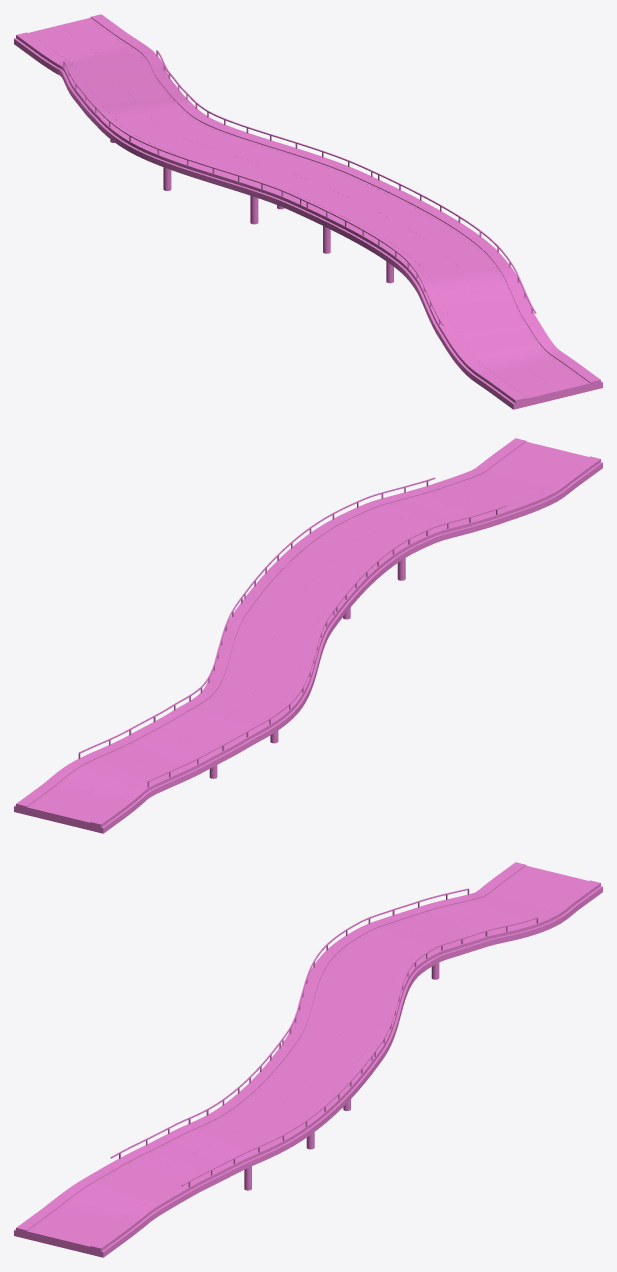
Rendered from Road_Causeway.fbx.
The picture shows the model from 3 angles, top to bottom: view 1: azimuth 30°, elevation 25°; view 2: azimuth 150°, elevation 25°; view 3: azimuth 330°, elevation 25°; orthographic projection.
Parts seen in each view (by area): view 1: Causeway_0, Causeway_1; view 2: Causeway_0, Causeway_1; view 3: Causeway_1, Causeway_0.
Part boxes in pixels (x1,y1,x2,y2): Causeway_0: (14,14,378,253); Causeway_1: (305,174,602,409); Causeway_0: (14,593,340,833); Causeway_1: (244,438,602,619); Causeway_1: (14,1042,375,1257); Causeway_0: (277,862,602,1110).
Size of the model in its own units: 80.5 by 26.09 by 406.
1 material, 1 textured.
